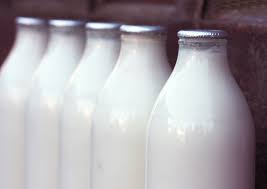milk: (151, 26, 254, 189), (100, 23, 164, 189), (31, 12, 83, 189), (69, 15, 120, 189), (7, 19, 47, 185)
